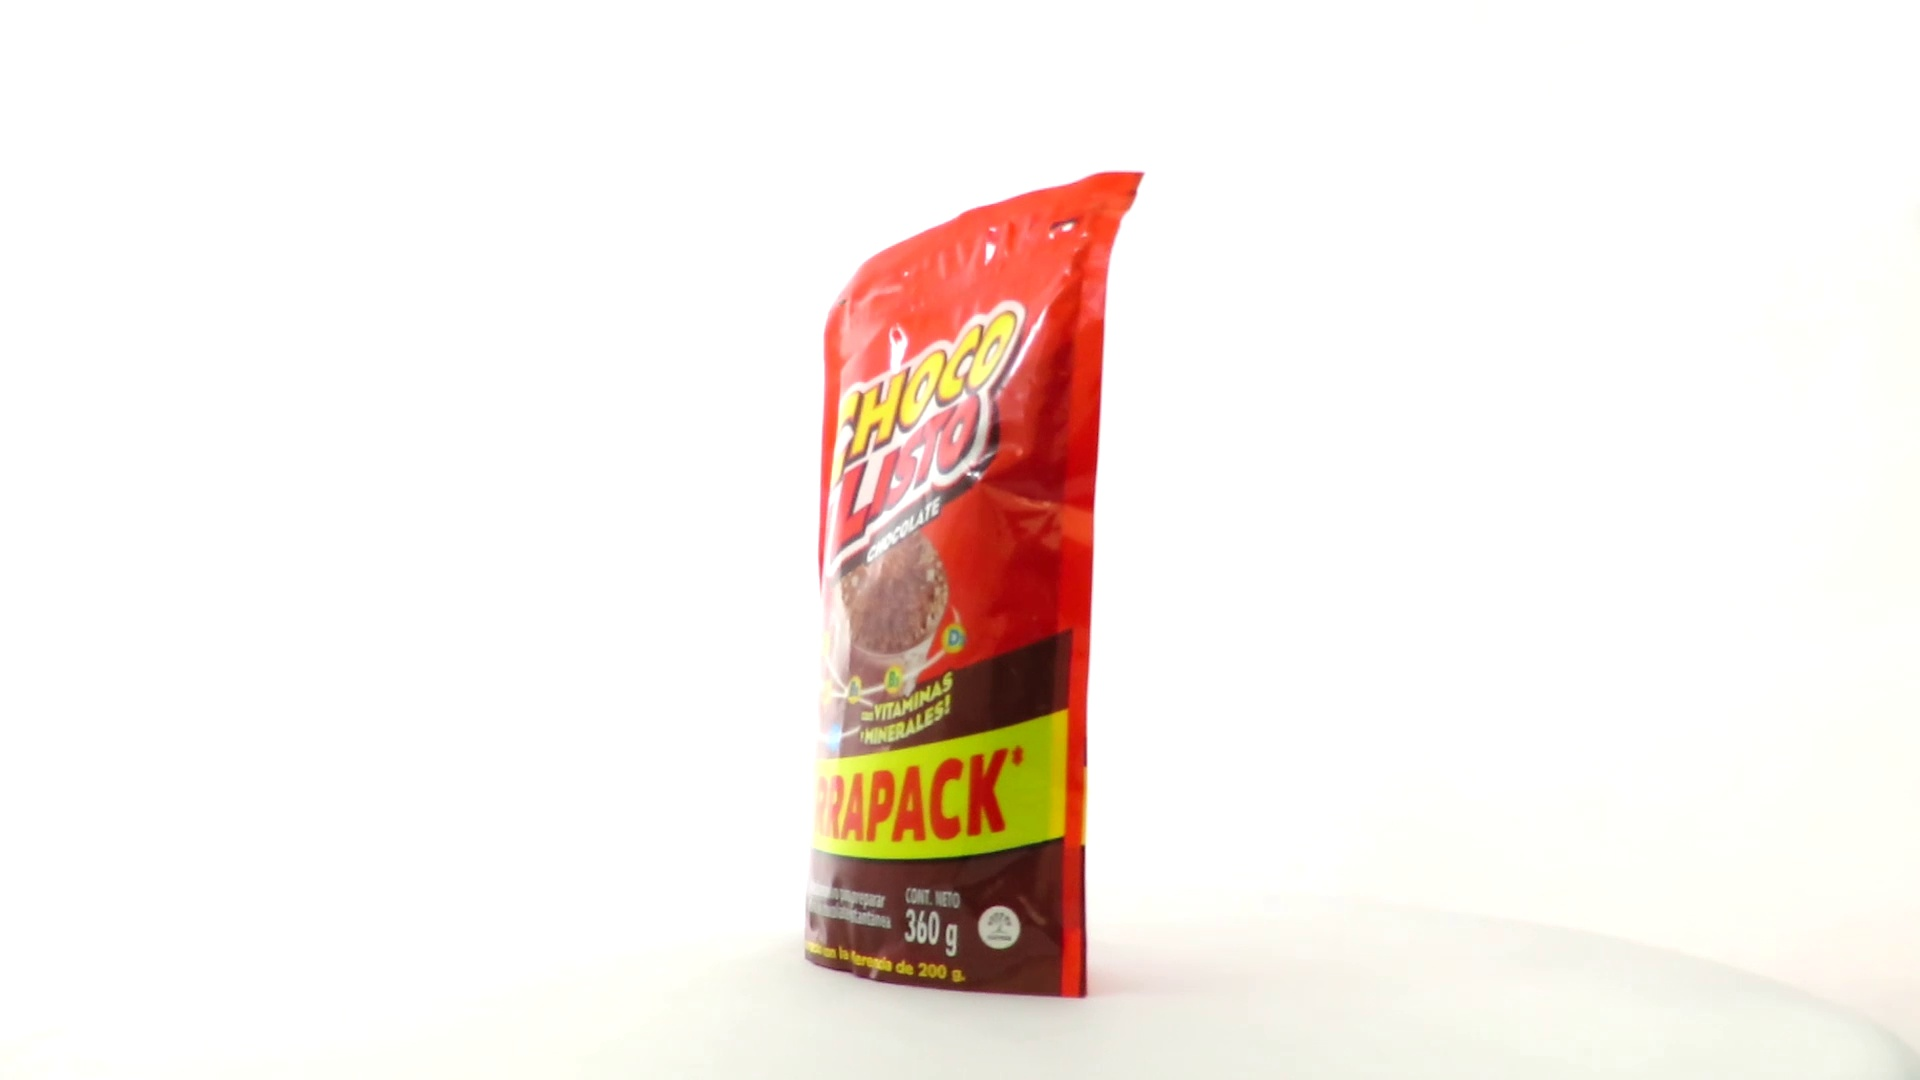COL0170103DYP36000: (798, 167, 1150, 1005)
